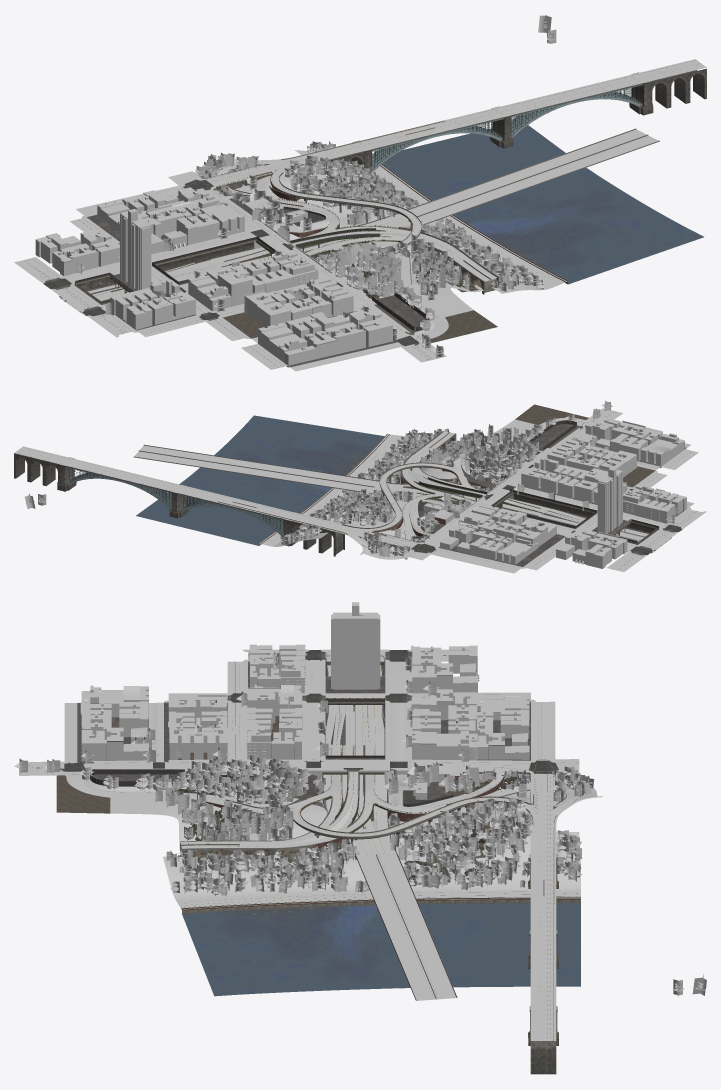
The model's file is Highway Interchange.fbx.
3 views of the same model, one above another, from view 1: azimuth 30°, elevation 25°; view 2: azimuth 150°, elevation 25°; view 3: azimuth 270°, elevation 25° (orthographic). The views are drawn at different scales.
Visible parts, largest first — view 1: gds.142, gds.001, gds.036, gds.015, gds.023, gds.044, gds.029, gds.024, gds.019, gds.010, gds.038, gds.022 (+12 smaller); view 2: gds.142, gds.001, gds.036, gds.015, gds.023, gds.044, gds.029, gds.024, gds.035, gds.010, gds.019, gds.022 (+16 smaller); view 3: gds.001, gds.142, gds.036, gds.023, gds.015, gds.019, gds.029, gds.044, gds.010, gds.022, gds.024, gds.039 (+11 smaller).
Part boxes in pixels (<box>): gds.142: <box>382,125,703,284</box>; gds.001: <box>76,15,556,358</box>; gds.036: <box>35,187,392,367</box>; gds.015: <box>211,129,658,281</box>; gds.023: <box>18,121,565,369</box>; gds.044: <box>110,251,318,329</box>; gds.029: <box>14,66,704,369</box>; gds.024: <box>21,60,704,368</box>; gds.019: <box>214,150,553,358</box>; gds.010: <box>74,59,706,371</box>; gds.038: <box>244,277,353,327</box>; gds.022: <box>142,63,700,360</box>; gds.142: <box>136,415,384,545</box>; gds.001: <box>25,401,678,559</box>; gds.036: <box>440,416,684,568</box>; gds.015: <box>134,431,545,532</box>; gds.023: <box>218,411,701,571</box>; gds.044: <box>521,457,686,523</box>; gds.029: <box>23,408,706,573</box>; gds.024: <box>15,447,698,570</box>; gds.035: <box>14,426,579,556</box>; gds.010: <box>14,412,694,554</box>; gds.019: <box>273,410,607,559</box>; gds.022: <box>18,410,692,546</box>; gds.001: <box>14,651,706,996</box>; gds.142: <box>182,903,580,996</box>; gds.036: <box>80,645,529,761</box>; gds.023: <box>28,652,580,908</box>; gds.015: <box>180,745,533,1000</box>; gds.019: <box>19,771,597,901</box>; gds.029: <box>19,649,579,1040</box>; gds.044: <box>246,644,305,759</box>; gds.010: <box>19,661,602,1040</box>; gds.022: <box>19,661,580,1040</box>; gds.024: <box>169,653,553,1040</box>; gds.039: <box>331,602,380,689</box>.
Size of the model in its own units: 370141 by 52133 by 277164.
